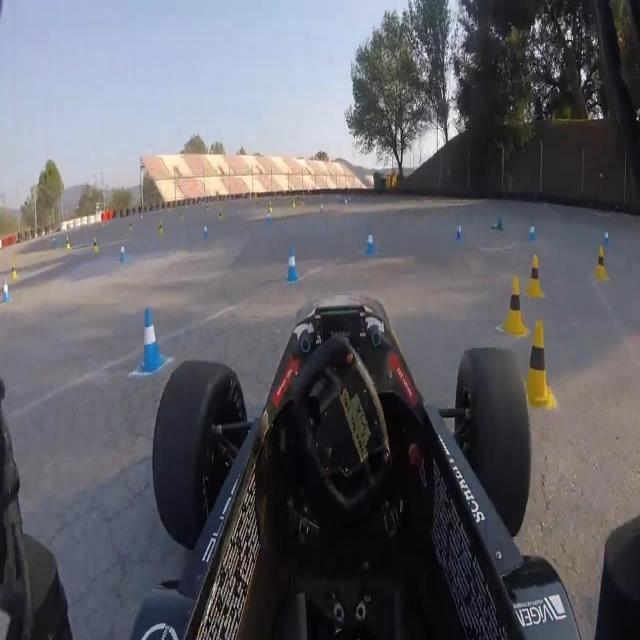blue_cone: (134, 300, 171, 370), (280, 232, 302, 286), (360, 220, 380, 258), (448, 211, 470, 242)
yellow_cone: (526, 315, 553, 409), (504, 273, 527, 339), (528, 245, 547, 297), (590, 238, 610, 286)
